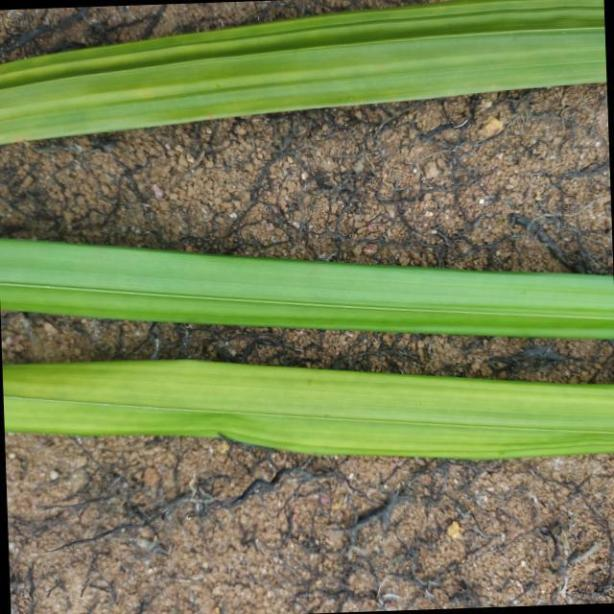nitrogen: (0, 0, 614, 145), (5, 220, 614, 340), (7, 357, 614, 461)
